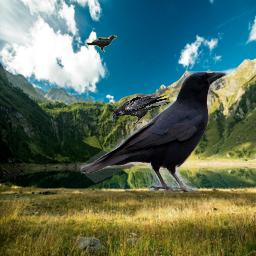Crow: (80, 71, 227, 193), (111, 95, 170, 124), (86, 35, 117, 52)
